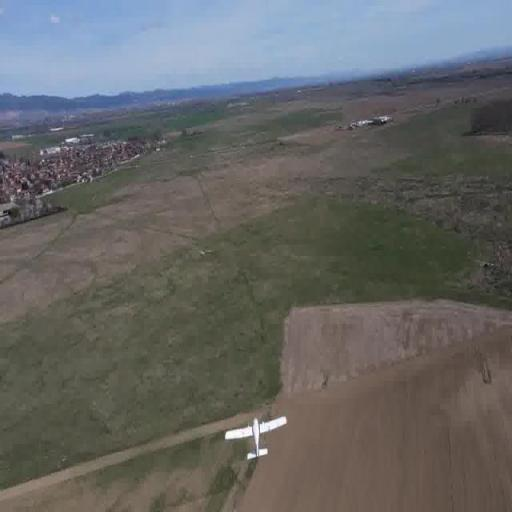uav: (216, 408, 290, 468)
